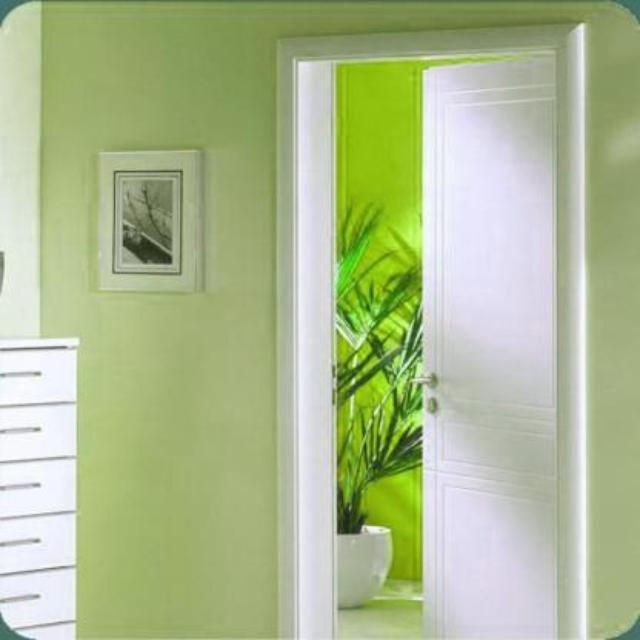door: (419, 51, 559, 639)
